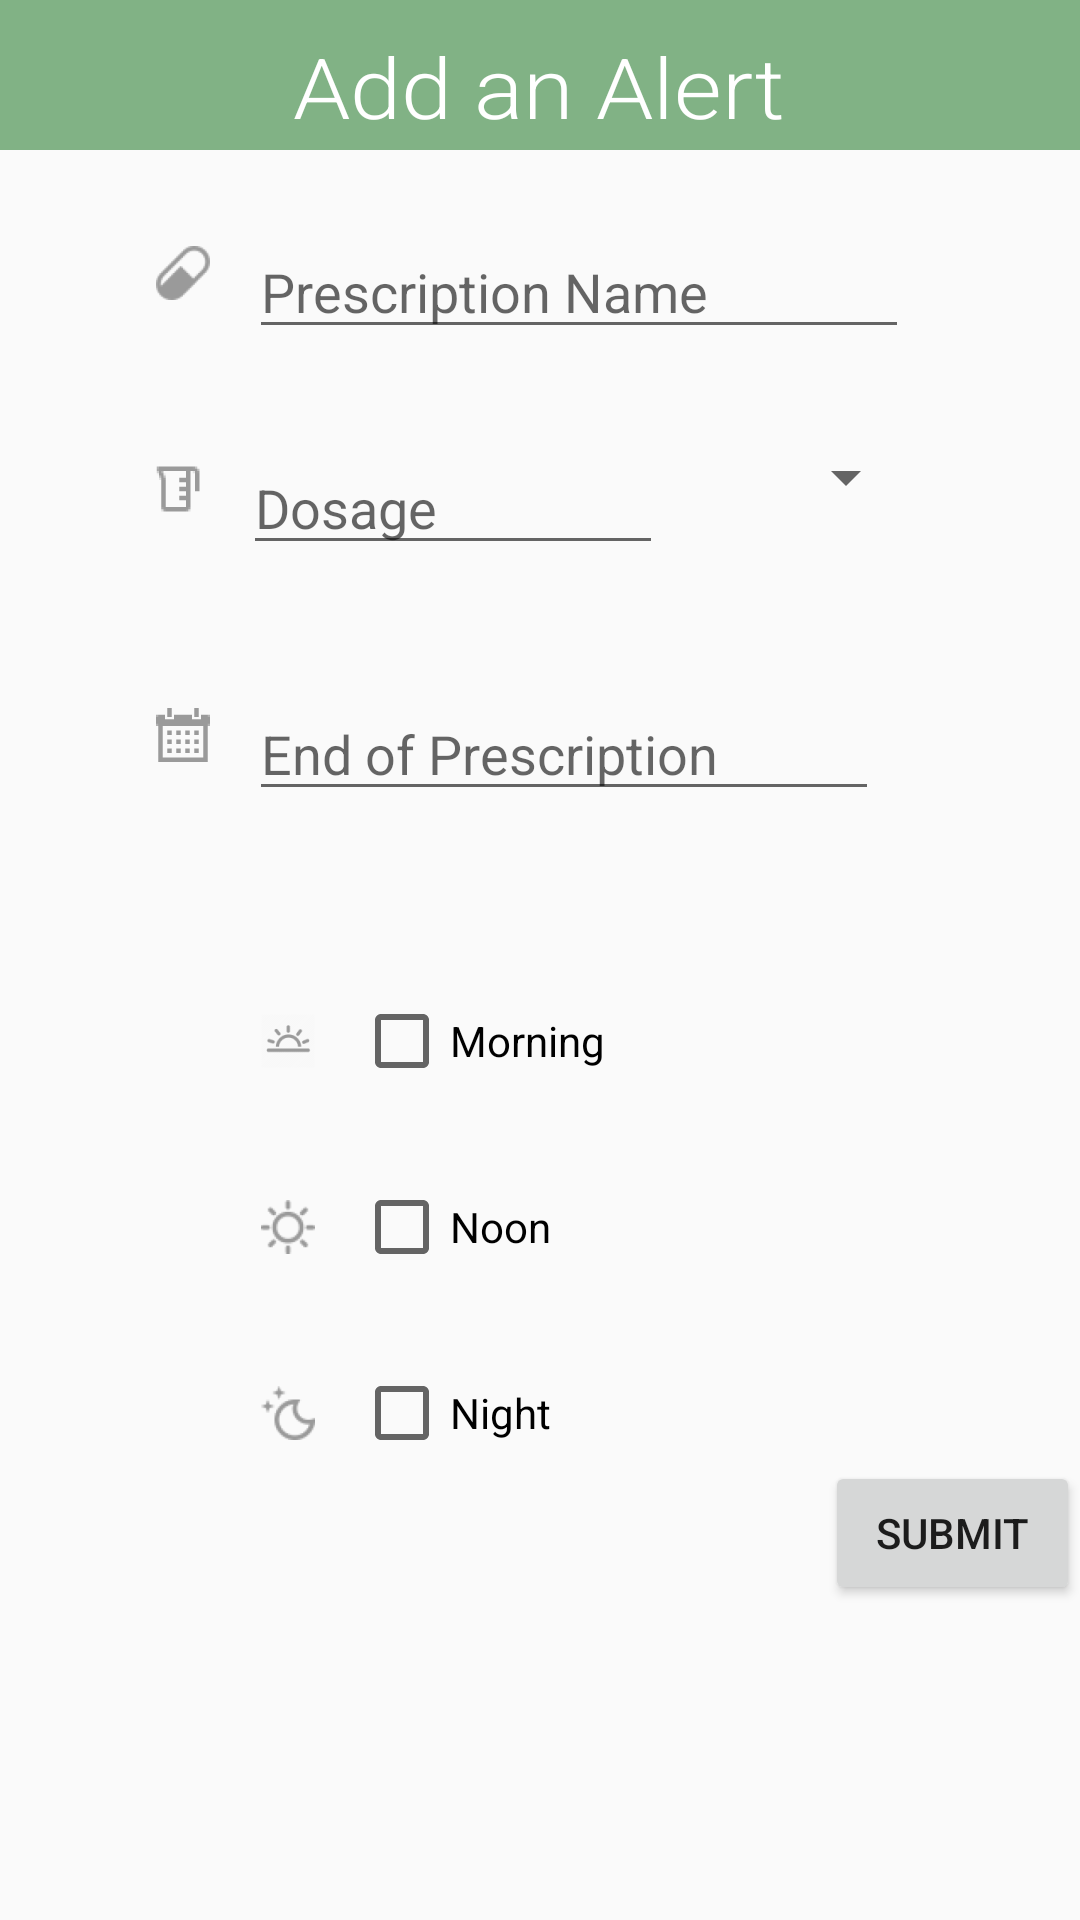

Screen size 1080*1920. Icon name, then its box in pixels as [x1, y1, x2, y2]:
dateend: [156, 708, 210, 762]
pill: [156, 246, 210, 300]
